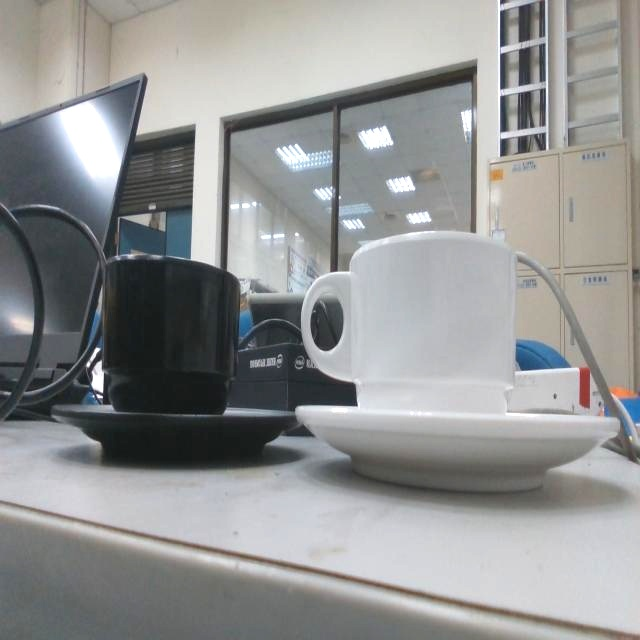black: (48, 247, 302, 468)
white: (294, 224, 622, 498)
